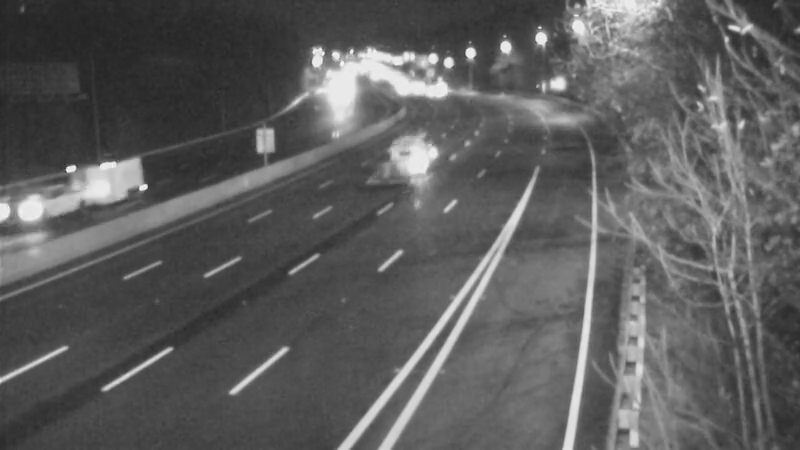vehicle: (1, 168, 72, 248), (400, 121, 450, 171)
